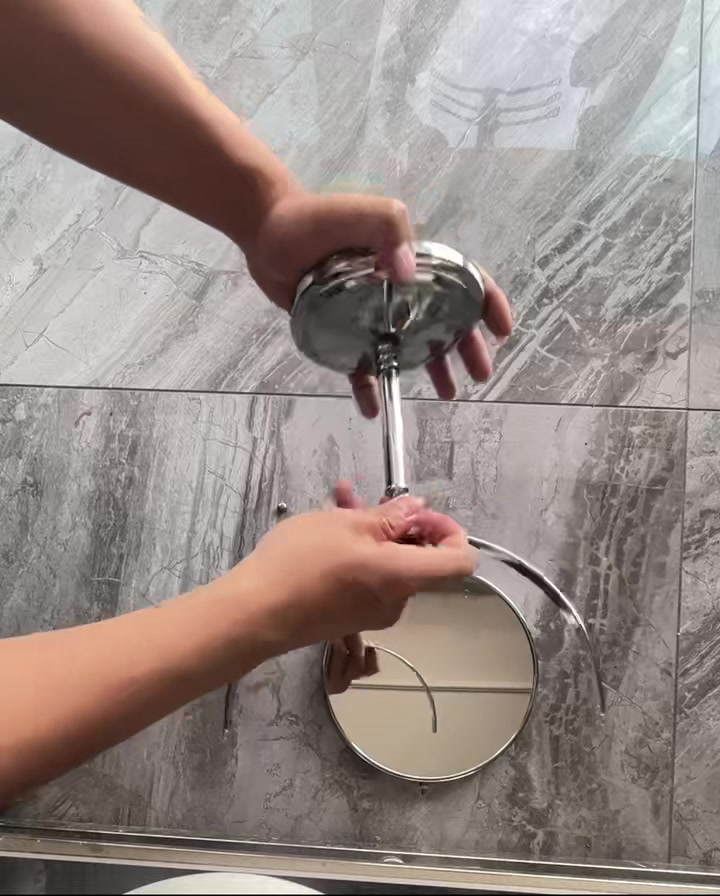base: (293, 218, 501, 364)
frame: (319, 362, 631, 703)
mirror: (304, 569, 540, 801)
screw: (266, 495, 290, 517)
